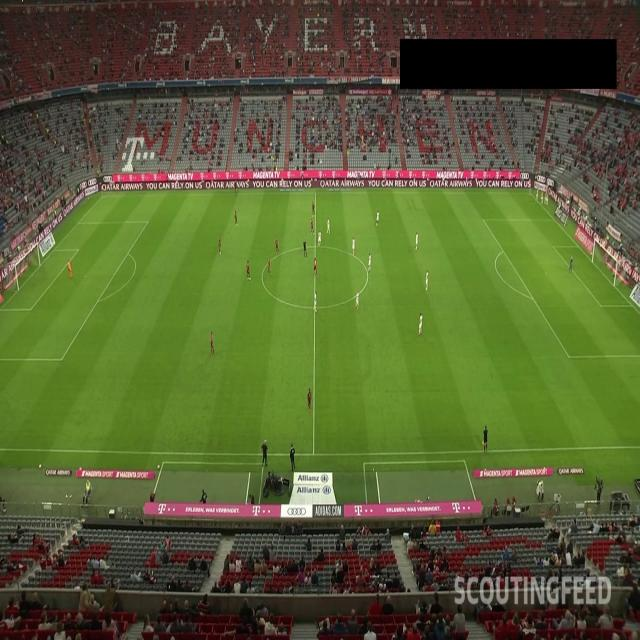ball: (314, 262, 318, 270)
player: (66, 258, 74, 281), (305, 389, 312, 409), (209, 332, 216, 352), (418, 312, 424, 334), (246, 258, 251, 280), (233, 208, 239, 226), (274, 236, 280, 254), (217, 234, 222, 254), (310, 202, 316, 218), (351, 237, 356, 256), (568, 254, 573, 273), (313, 291, 317, 313), (326, 217, 331, 234), (266, 256, 270, 277), (314, 257, 318, 276), (368, 253, 372, 272), (414, 231, 418, 250), (310, 219, 315, 234), (355, 292, 359, 309), (318, 230, 322, 247), (426, 271, 429, 291), (376, 210, 379, 226)
